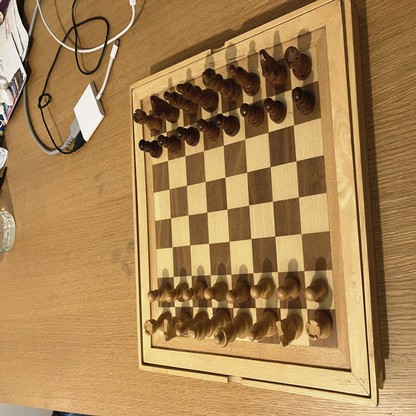bishop_black: (229, 63, 258, 91), (165, 91, 197, 113)
bishop_white: (250, 310, 279, 341), (177, 311, 207, 335)
king_black: (176, 84, 219, 110)
king_white: (190, 309, 230, 339)
knight_black: (260, 48, 285, 85), (150, 94, 180, 123)
knight_white: (277, 314, 303, 345), (164, 313, 191, 340)
pawn_black: (292, 87, 317, 113), (265, 99, 288, 122), (218, 113, 240, 134), (198, 119, 219, 140), (158, 135, 181, 154), (241, 105, 262, 125), (140, 140, 162, 158), (178, 127, 200, 145)
pawn_white: (250, 277, 274, 298), (278, 277, 301, 298), (148, 283, 172, 301), (306, 280, 328, 299), (166, 283, 189, 301), (184, 280, 205, 299), (228, 283, 249, 302), (206, 282, 229, 298)
queen_black: (203, 69, 241, 100)
queen_white: (215, 314, 252, 346)
rock_black: (286, 46, 312, 77), (132, 110, 163, 132)
rock_white: (309, 308, 334, 338), (144, 311, 170, 333)
